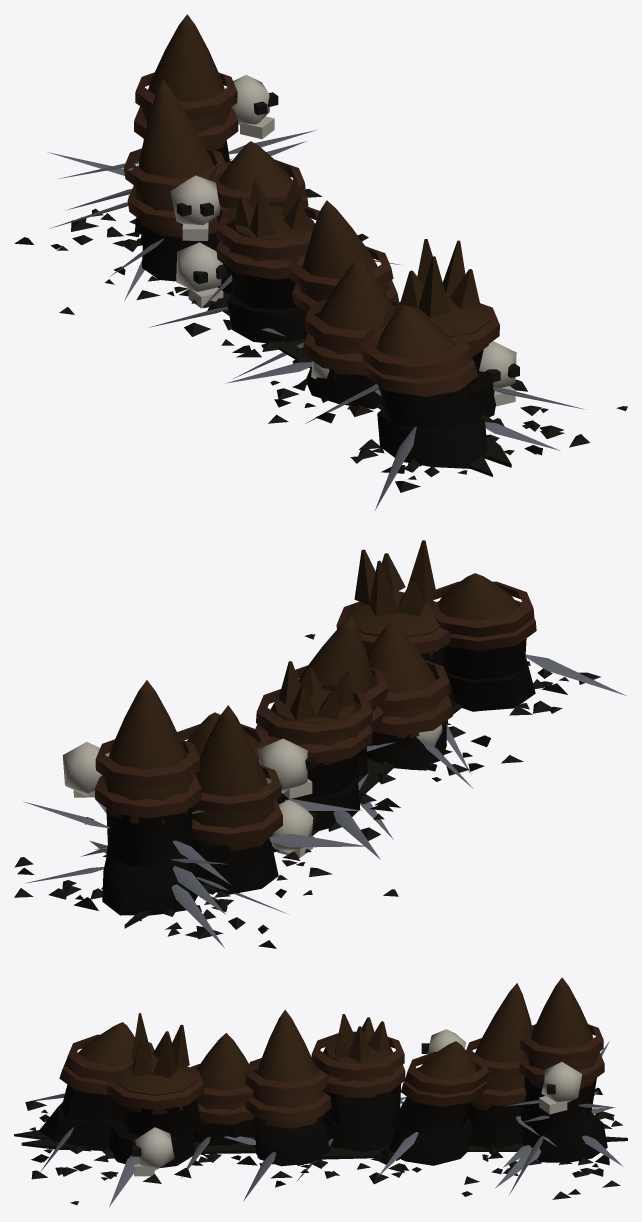
File: TarPRWall02a.glb
3 renders of one model, top to bottom at view 1: azimuth 30°, elevation 25°; view 2: azimuth 150°, elevation 25°; view 3: azimuth 270°, elevation 25°, orthographic. The views are drawn at different scales.
Parts seen in each view (by area): view 1: pal_body; view 2: pal_body; view 3: pal_body.
Boxes of the visible parts, x1,y1,x2,y2 form: pal_body: (14,14,627,510); pal_body: (14,540,626,948); pal_body: (14,977,627,1206).
Bounding box in the file's own units: 4.06 × 2.78 × 7.99.
